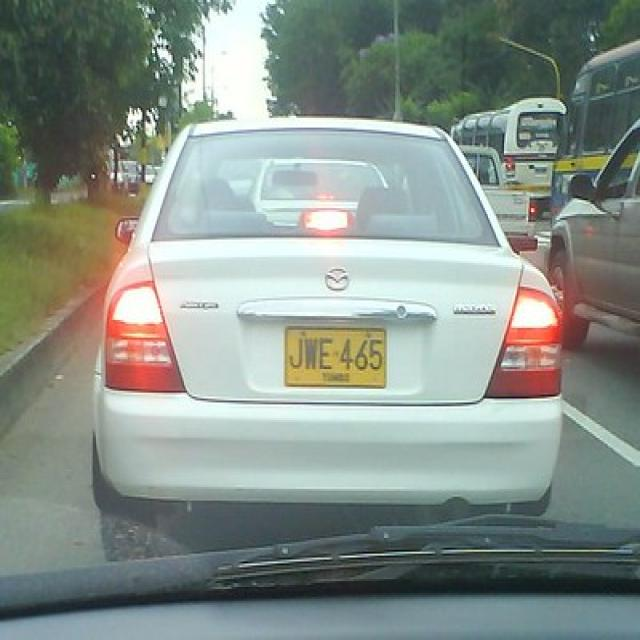placa_carro: (280, 316, 394, 405)
